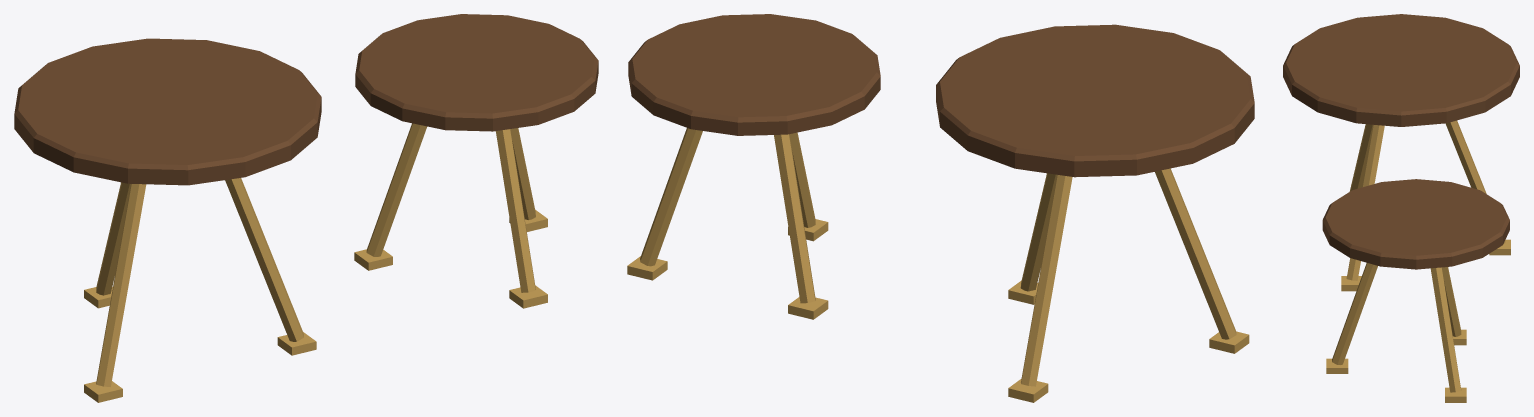
Rendered from FN_Table_Coffee_Nest.obj.
The picture shows the model from 3 angles, left to right: view 1: azimuth 30°, elevation 25°; view 2: azimuth 150°, elevation 25°; view 3: azimuth 270°, elevation 25°; orthographic projection. The views are drawn at different scales.
Visible parts, largest first — view 1: FN_Table_Coffee_Nest; view 2: FN_Table_Coffee_Nest; view 3: FN_Table_Coffee_Nest.
Part boxes in pixels (box(x1,y1,x2,y2)): FN_Table_Coffee_Nest: box(14, 14, 598, 402); FN_Table_Coffee_Nest: box(627, 14, 1254, 402); FN_Table_Coffee_Nest: box(1283, 14, 1519, 402).
Size of the model in its own units: 1 by 0.42 by 0.48.
Materials: 1 (1 with a texture image).
